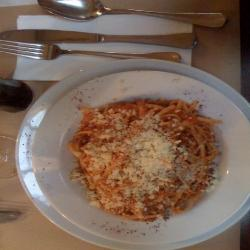bolonese_pasta: (70, 86, 222, 229)
